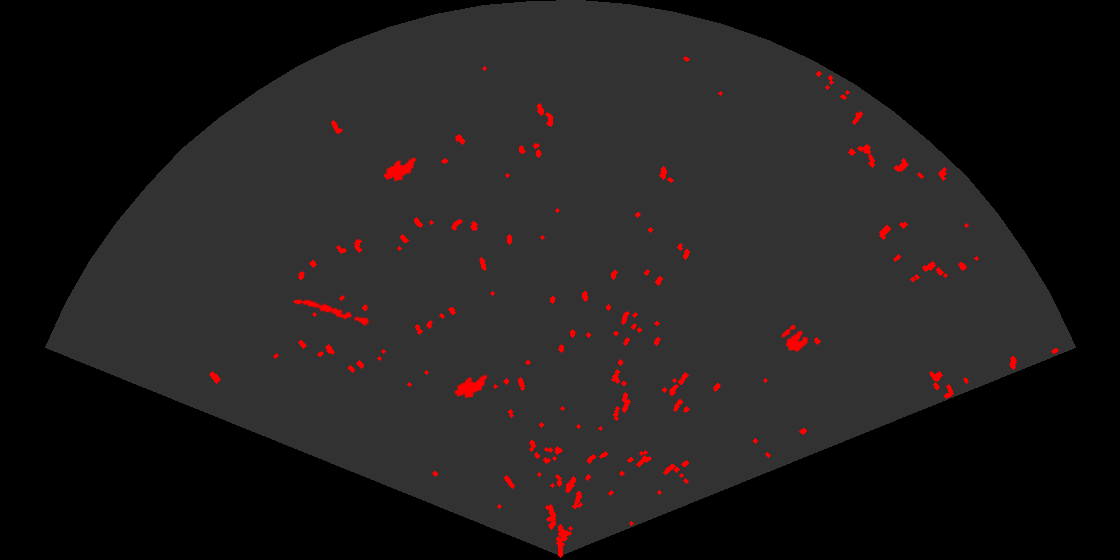AUV: (382, 156, 418, 183), (453, 373, 489, 400)
ball: (780, 323, 810, 353)
chain: (291, 298, 374, 327)
